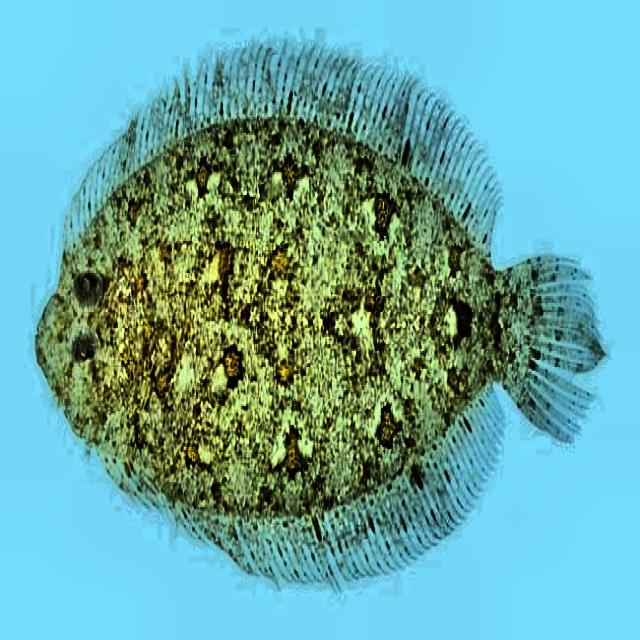fish: (35, 41, 612, 594)
